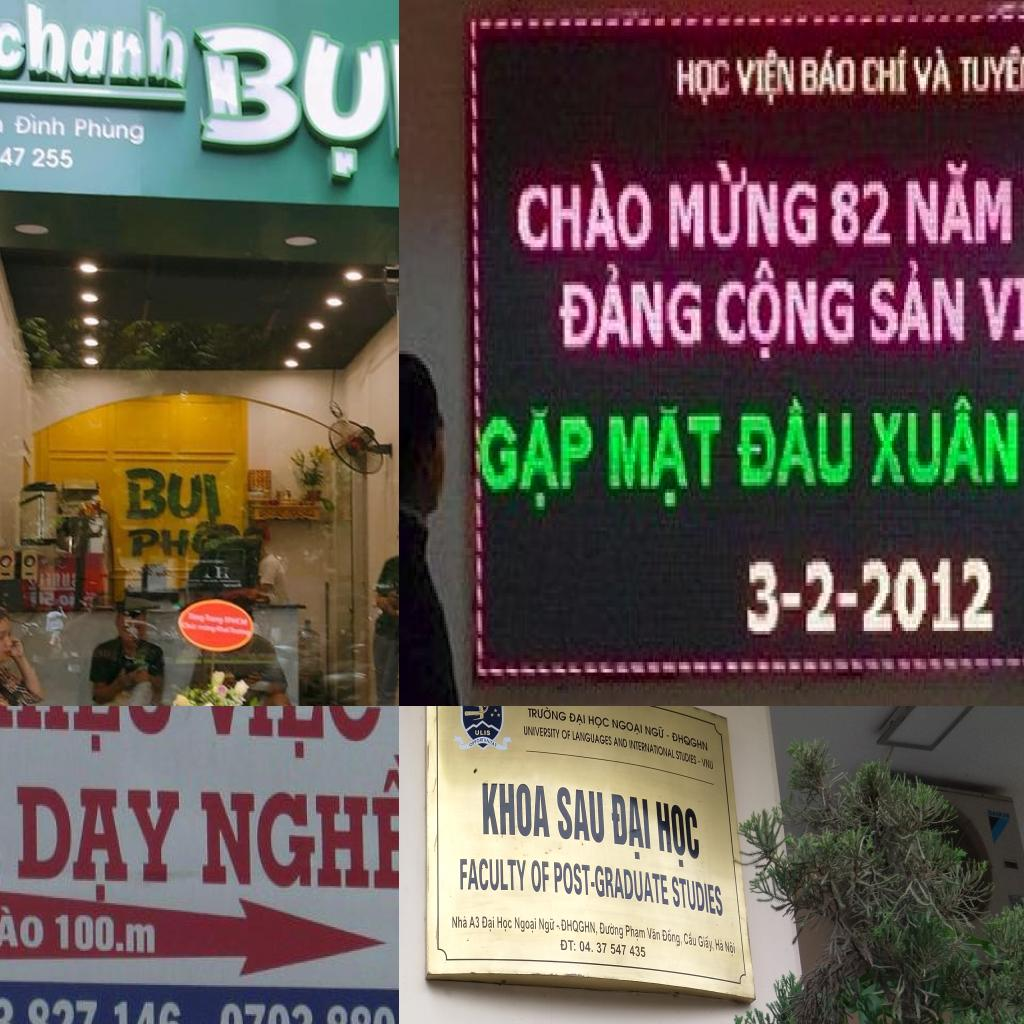text: (189, 19, 399, 184), (199, 755, 399, 893), (12, 780, 182, 905), (0, 0, 187, 91), (713, 258, 860, 364), (868, 392, 1022, 493), (667, 160, 822, 254), (555, 261, 705, 358), (480, 400, 597, 520), (514, 164, 657, 257), (605, 403, 725, 513), (735, 396, 856, 496), (904, 157, 1016, 251), (191, 706, 382, 759), (870, 257, 968, 351), (0, 706, 177, 756), (118, 462, 228, 522), (978, 254, 1024, 364), (54, 910, 158, 958), (830, 174, 894, 250), (218, 1000, 399, 1024), (735, 46, 800, 112), (958, 39, 1024, 98), (482, 782, 550, 837), (675, 53, 733, 112), (655, 799, 702, 871), (800, 46, 860, 102), (595, 864, 669, 906), (556, 785, 606, 845), (610, 793, 652, 862), (862, 46, 912, 102), (912, 43, 958, 102), (0, 139, 75, 173), (71, 113, 148, 146), (123, 524, 192, 558), (460, 856, 526, 891), (671, 875, 724, 918), (0, 903, 47, 951), (553, 861, 595, 896), (10, 113, 66, 135), (579, 940, 646, 958), (629, 739, 675, 759), (671, 732, 708, 751), (561, 918, 598, 936), (531, 860, 549, 894), (572, 731, 612, 746), (527, 706, 566, 721), (612, 718, 642, 736), (523, 726, 560, 740), (599, 921, 624, 940), (625, 924, 646, 943), (662, 928, 682, 947), (514, 917, 536, 933), (468, 737, 498, 748), (588, 715, 610, 730), (645, 723, 665, 739), (698, 933, 714, 953), (676, 750, 697, 765), (497, 916, 513, 933), (539, 918, 555, 934), (482, 915, 496, 932), (452, 915, 468, 929), (569, 713, 586, 726), (684, 930, 697, 947), (559, 939, 576, 952), (725, 940, 736, 958), (647, 927, 661, 941), (614, 736, 628, 748), (701, 757, 713, 770), (468, 916, 480, 929), (715, 938, 724, 952), (561, 729, 571, 741), (474, 729, 491, 736)
